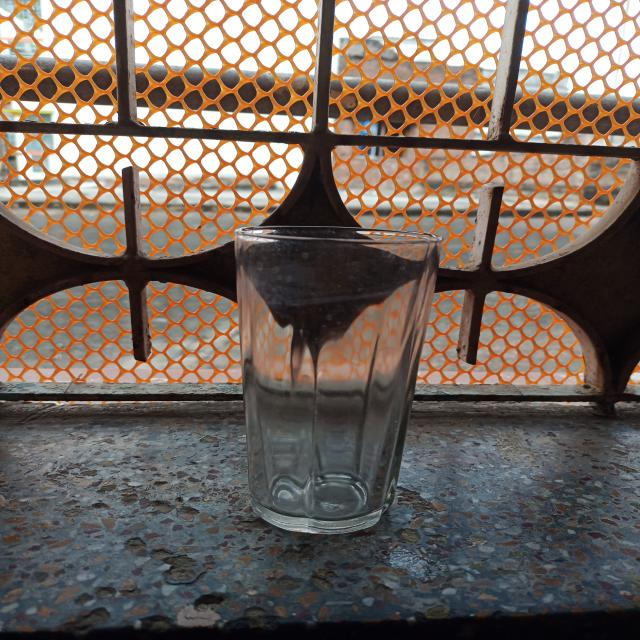Glass: (229, 222, 447, 538)
